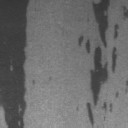red iron: (78, 0, 119, 128), (0, 0, 30, 128), (123, 5, 128, 18), (114, 92, 119, 99), (126, 80, 128, 87)
